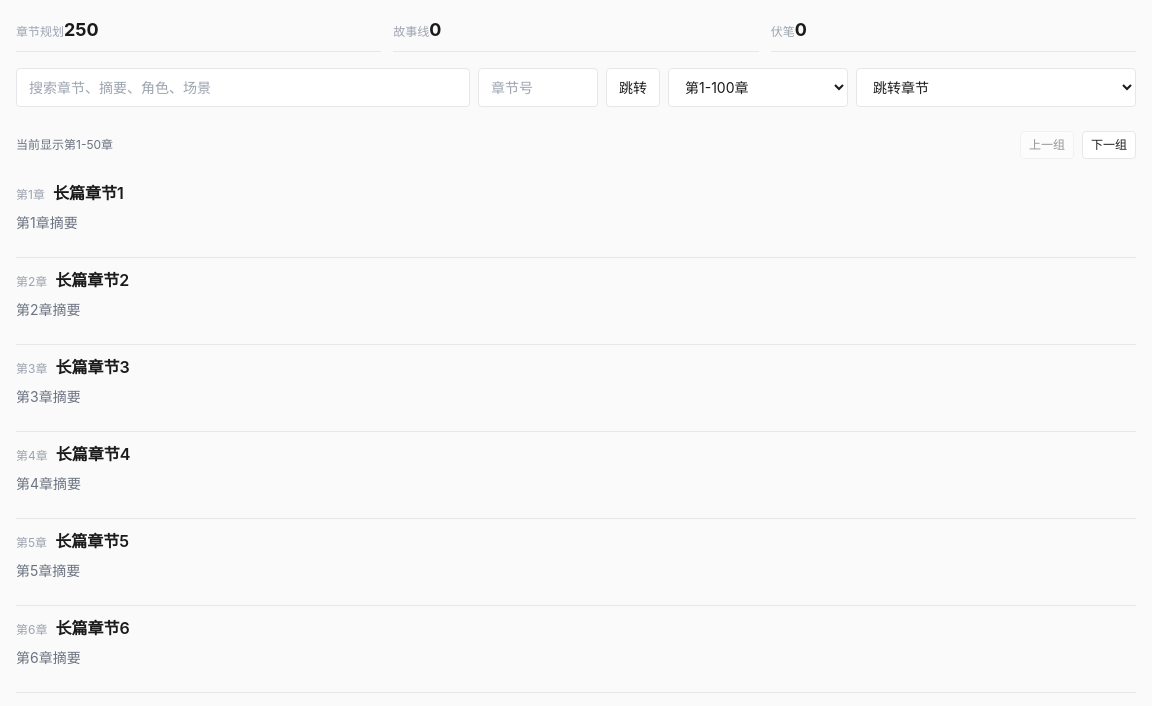
Test: NarrativeWorkbench › keeps common chapter searches bounded for long plans
In the search field with test id "chapter-search": (243, 88) [16,68,470,107], type "长篇"
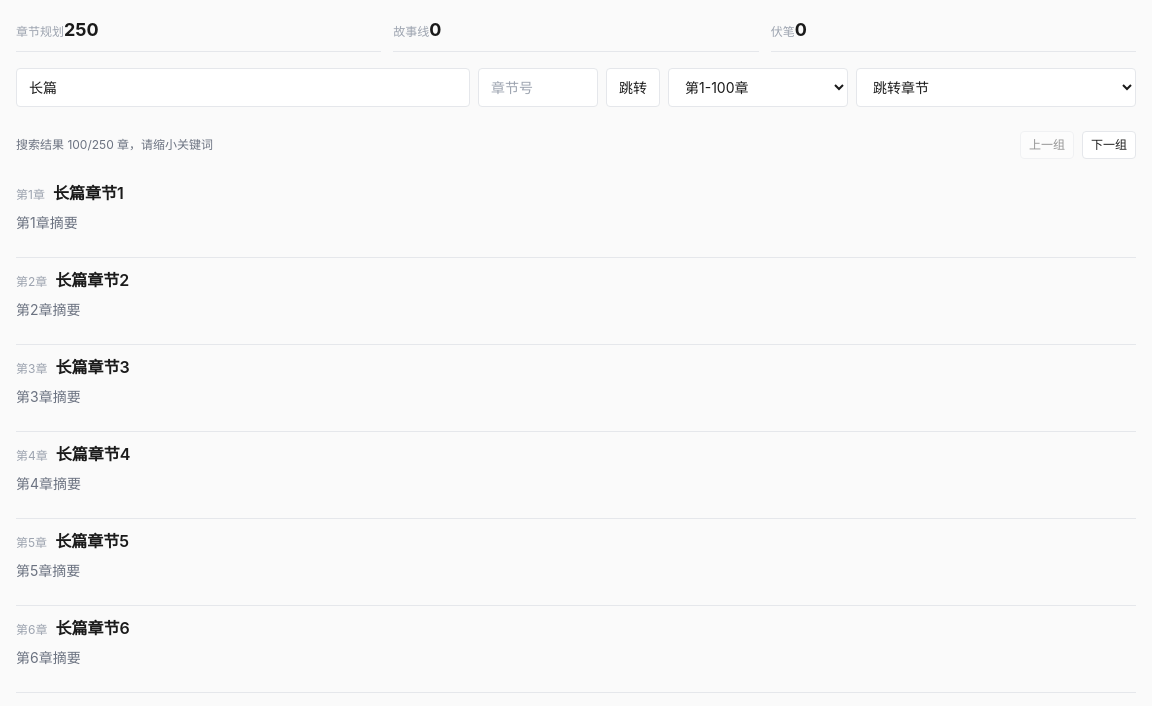
Expected: the text "搜索结果 100/250 章" is shown, [16,137,213,152]
Expected: the text "请缩小关键词" is shown, [16,137,213,152]
